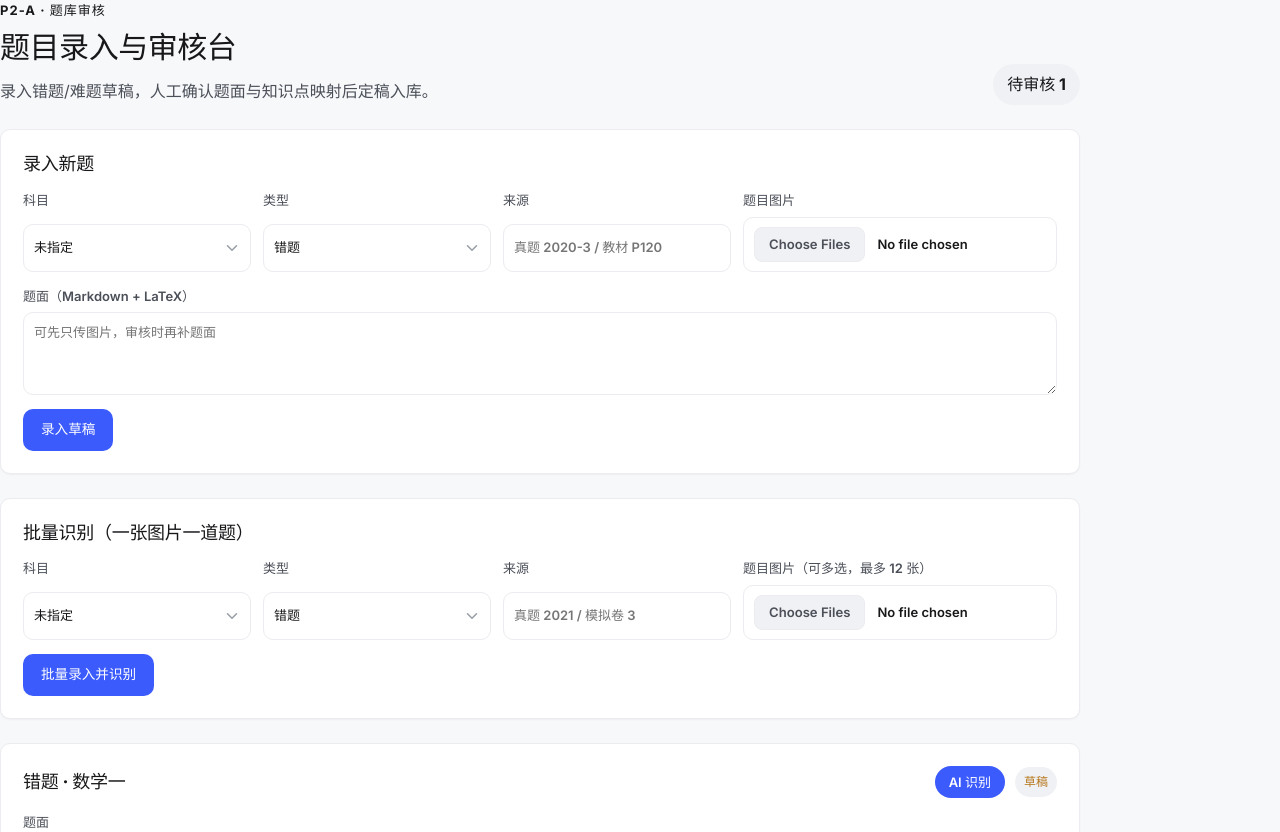
ProblemsView › fills the review form from AI extraction and adopts the solution
The image size is (1280, 832).
Click the button with class "ai-button".
click(970, 782)  # box [935,766,1005,798]
(page scrolled)
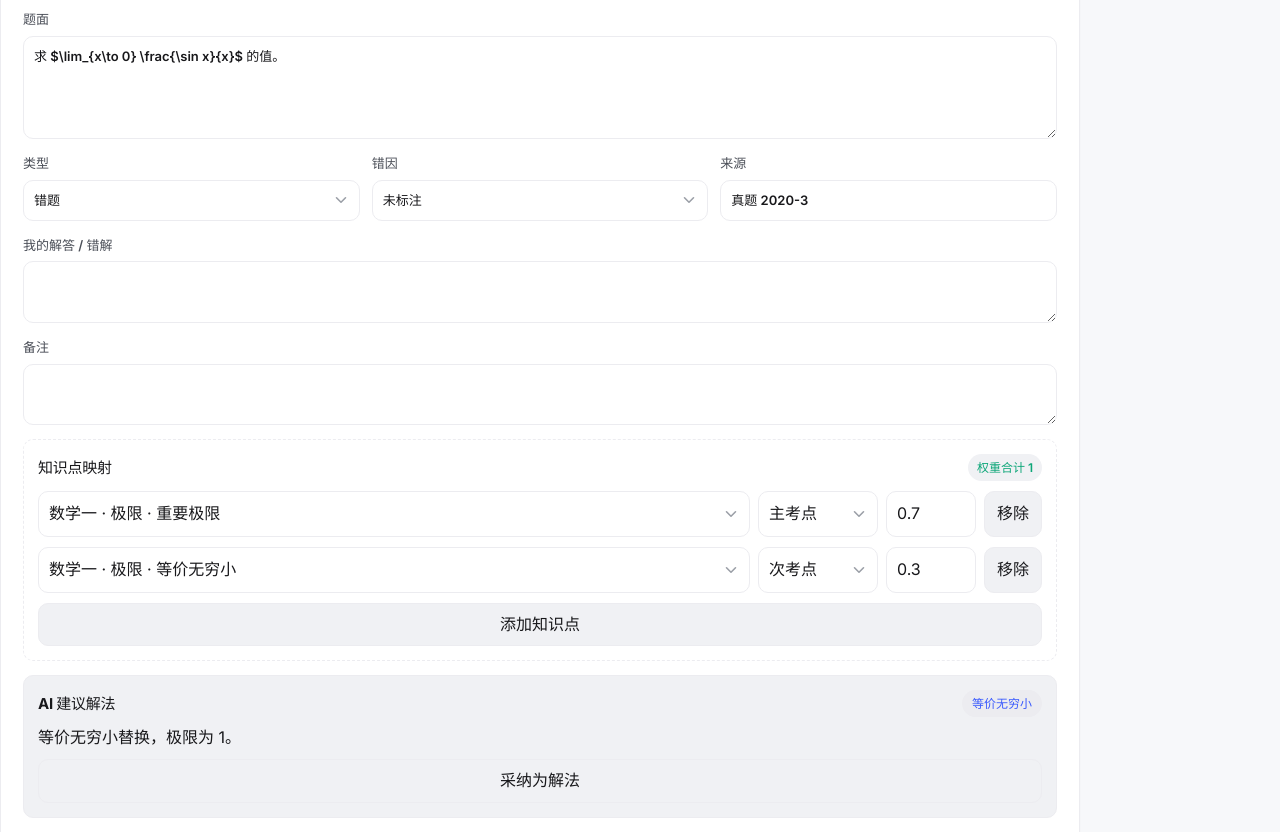
Check: the number of elements with class "mapping-row" is 2, box [38,492,1042,537]; [38,547,1042,593]
Check: the 3rd dropdown shows "数学一 · 极限 · 重要极限", box [38,492,750,537]
Check: the text "AI 建议解法" is shown, box [38,694,115,714]
Click the button with class "add-button" showing "采纳为解法".
click(540, 781)  # box [38,759,1042,803]
(page scrolled)
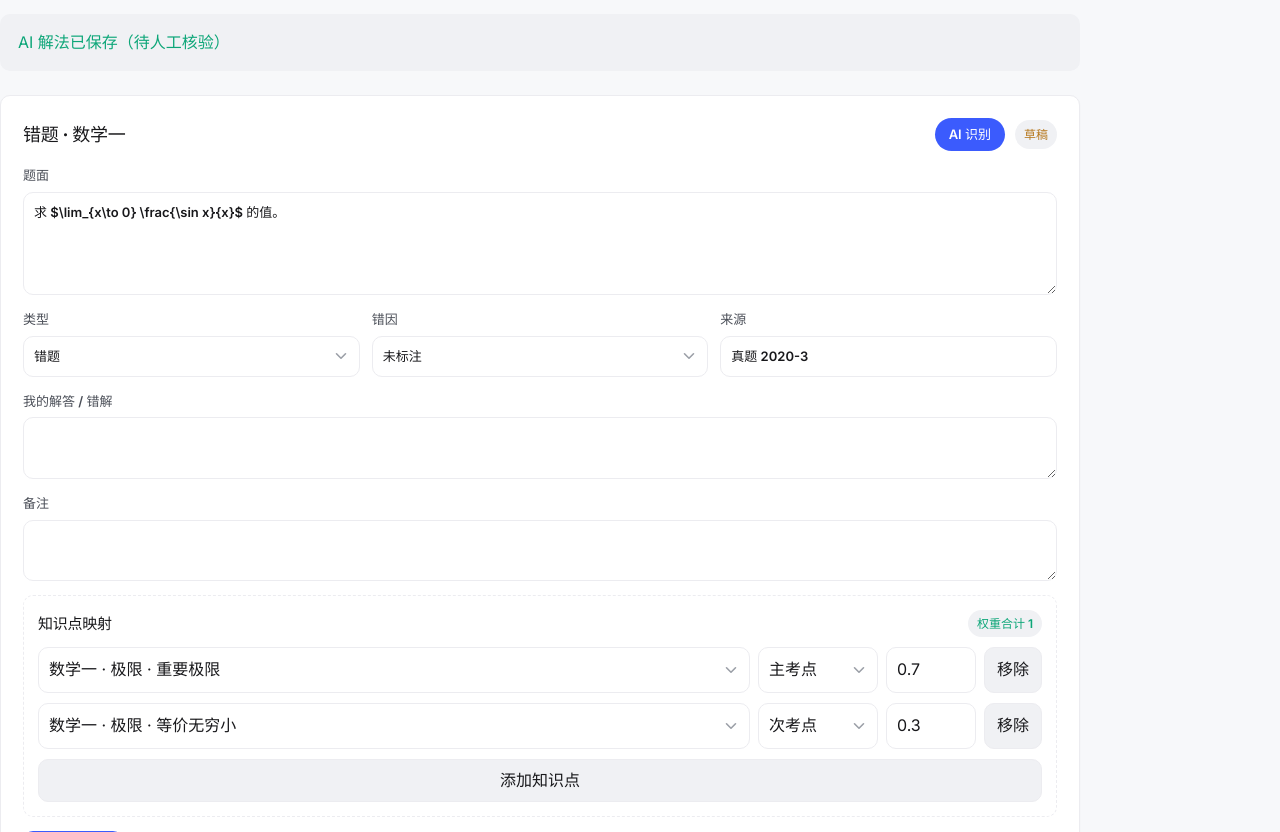
Check: the text "AI 解法已保存" is shown, box [18,32,230,52]
